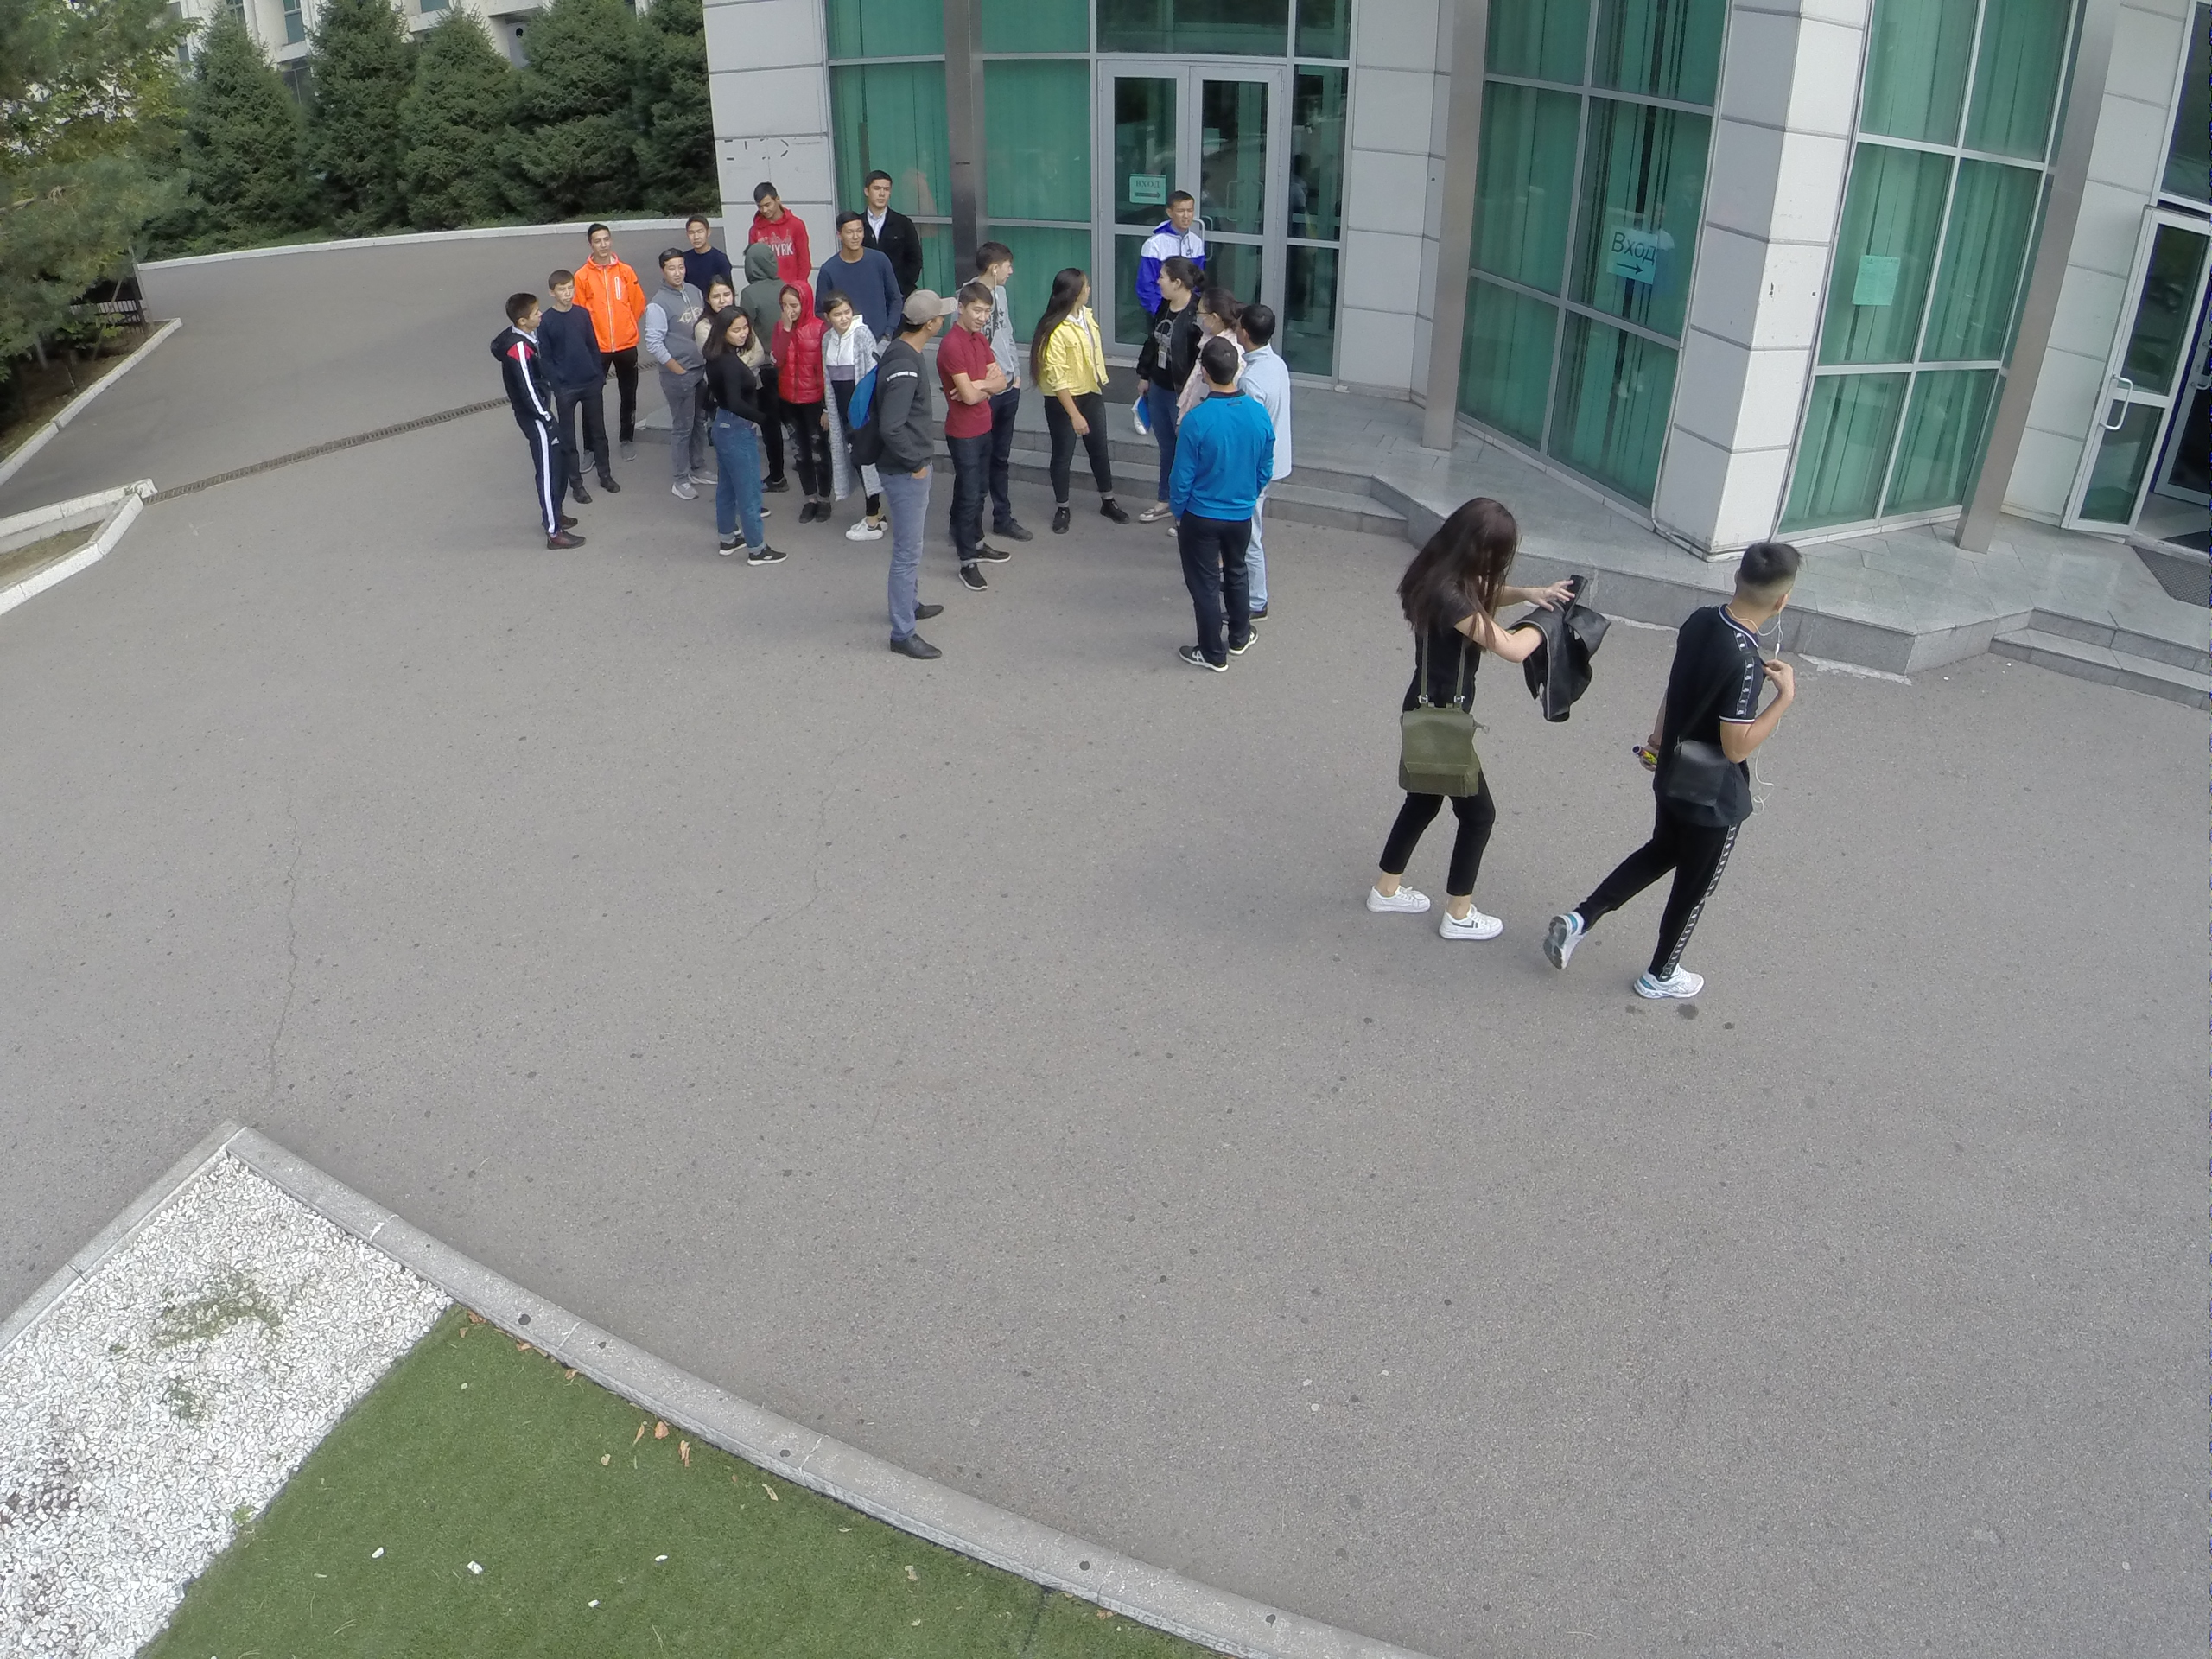person: (1550, 522, 1795, 1020), (1363, 488, 1517, 966), (1166, 351, 1279, 702), (869, 291, 945, 662), (1030, 266, 1128, 534), (485, 296, 571, 547), (698, 309, 779, 563), (538, 273, 624, 498), (646, 253, 715, 503), (1141, 263, 1205, 523), (1238, 311, 1291, 619), (578, 222, 646, 454), (825, 300, 887, 546), (950, 292, 998, 584), (783, 283, 837, 520), (979, 239, 1020, 532), (747, 242, 792, 489), (859, 170, 918, 292), (829, 220, 900, 315), (1156, 195, 1214, 270), (747, 184, 809, 244), (681, 213, 729, 264), (1200, 292, 1239, 356)
